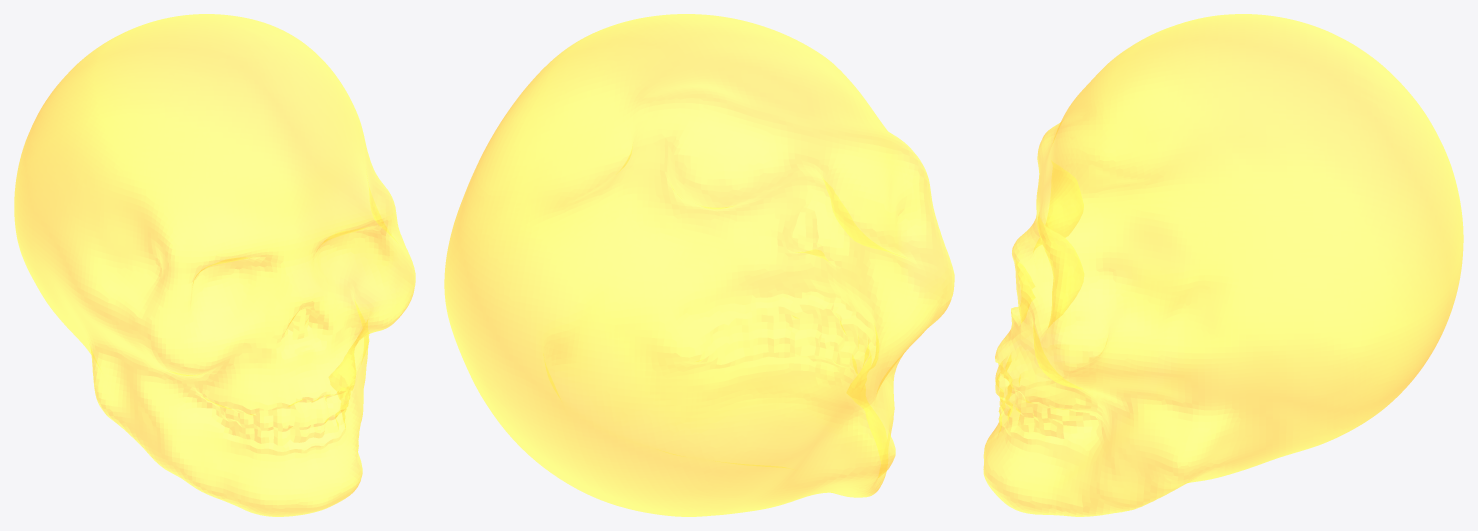
File: skellyOrange.glb
3 views of the same model, side by side, from view 1: azimuth 30°, elevation 25°; view 2: azimuth 150°, elevation 25°; view 3: azimuth 270°, elevation 25° (orthographic). The views are drawn at different scales.
Visible parts, largest first — view 1: skull; view 2: skull; view 3: skull.
Boxes of the visible parts, box(x1,y1,x2,y2) form: skull: box(14, 14, 415, 516); skull: box(444, 14, 954, 516); skull: box(983, 14, 1463, 516).
Bounding box in the file's own units: 1.71 × 2.24 × 2.12.
